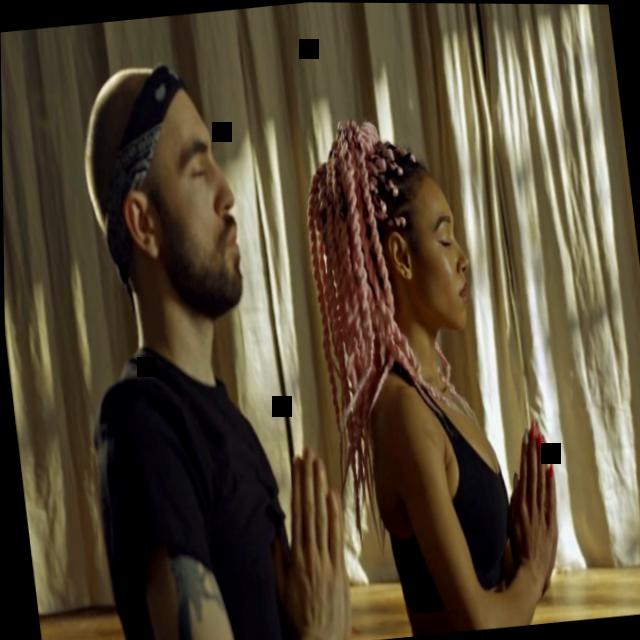NO-Mask: (136, 101, 248, 320), (395, 177, 475, 335)
